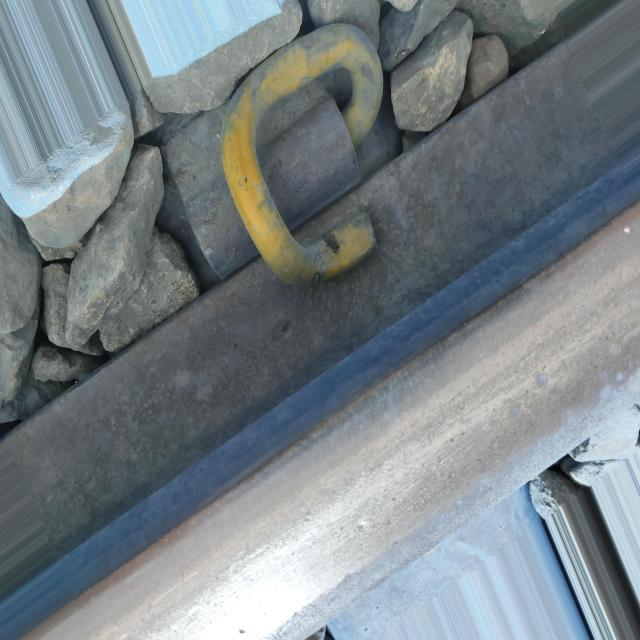Good Fasteners: (160, 24, 383, 284)
